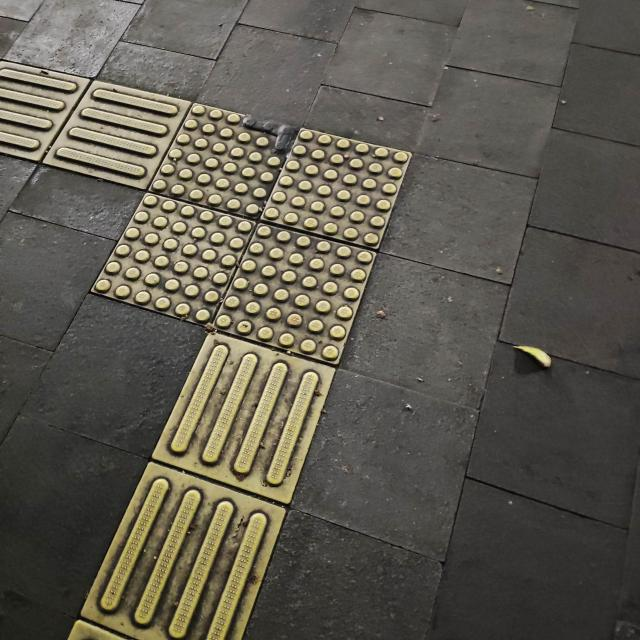kiri: (0, 76, 413, 440)
